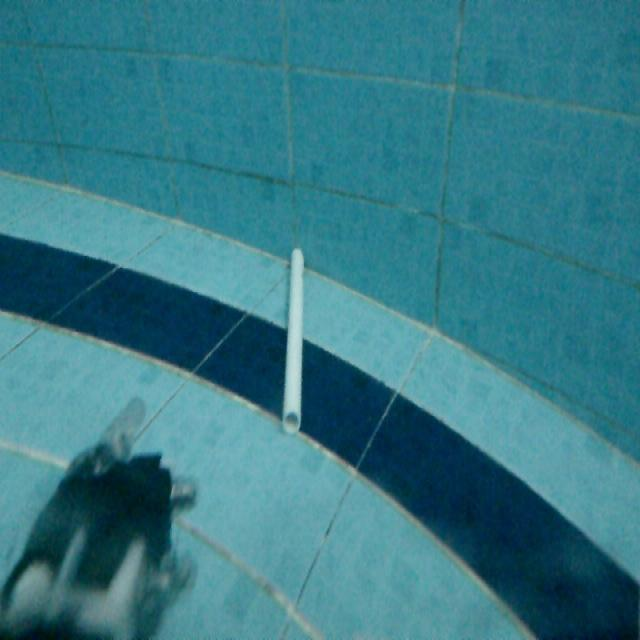Cube: (279, 243, 307, 436)
